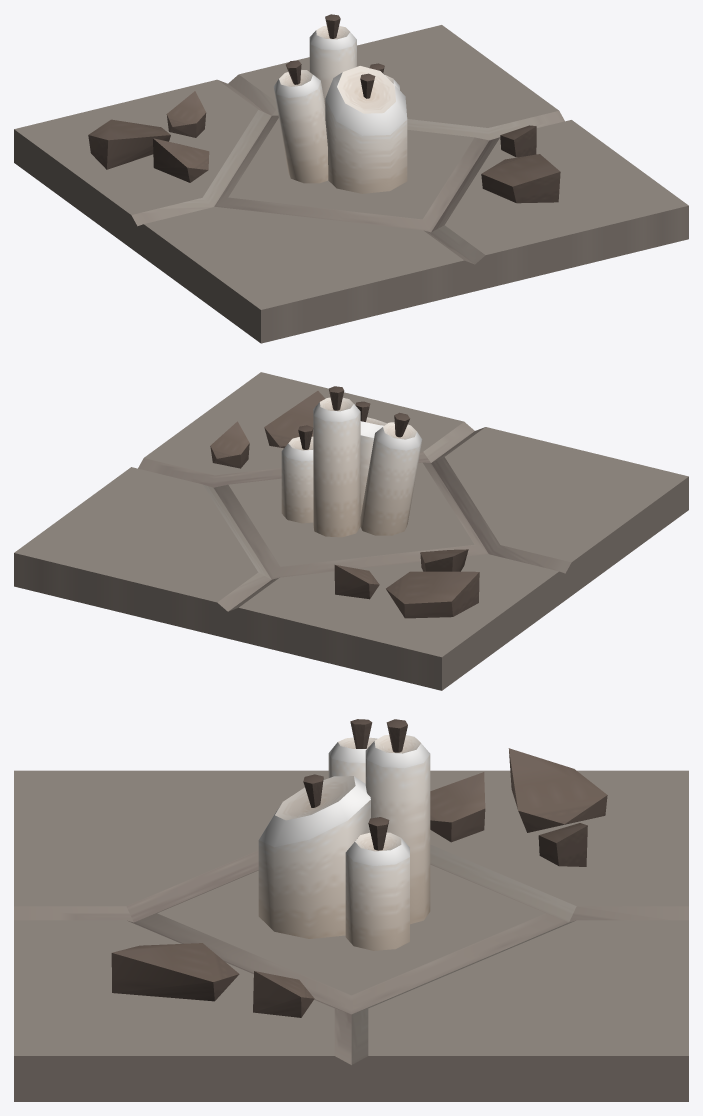
Rendered from floor_tile_small_decorated.glb.
3 renders of one model, top to bottom at view 1: azimuth 30°, elevation 25°; view 2: azimuth 150°, elevation 25°; view 3: azimuth 270°, elevation 25°, orthographic. The views are drawn at different scales.
Visible parts, largest first — view 1: floor_tile_small_decorated; view 2: floor_tile_small_decorated; view 3: floor_tile_small_decorated.
Part boxes in pixels (x1,y1,x2,y2): floor_tile_small_decorated: [14, 14, 688, 343]; floor_tile_small_decorated: [14, 372, 688, 690]; floor_tile_small_decorated: [14, 719, 688, 1101].
Size of the model in its own units: 2 by 0.773 by 2.
1 material, 1 textured.
